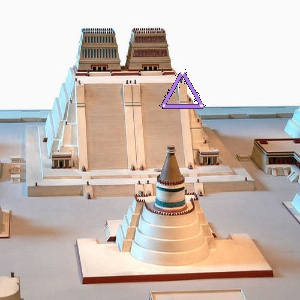triangle: (156, 68, 206, 115)
